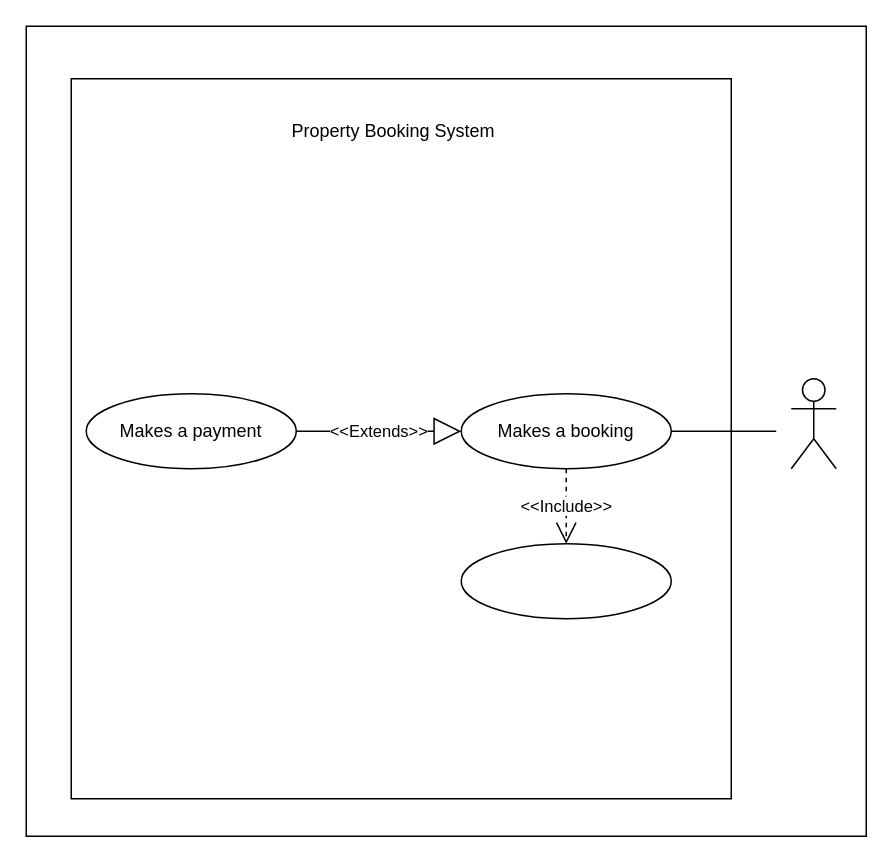
Image size: 893x863. Some labels were removed from this diagram. Here are the shapes that lost their labels. From the top down, the centre of each, then its label:
(x=813, y=423): User
(x=565, y=580): Register new user
